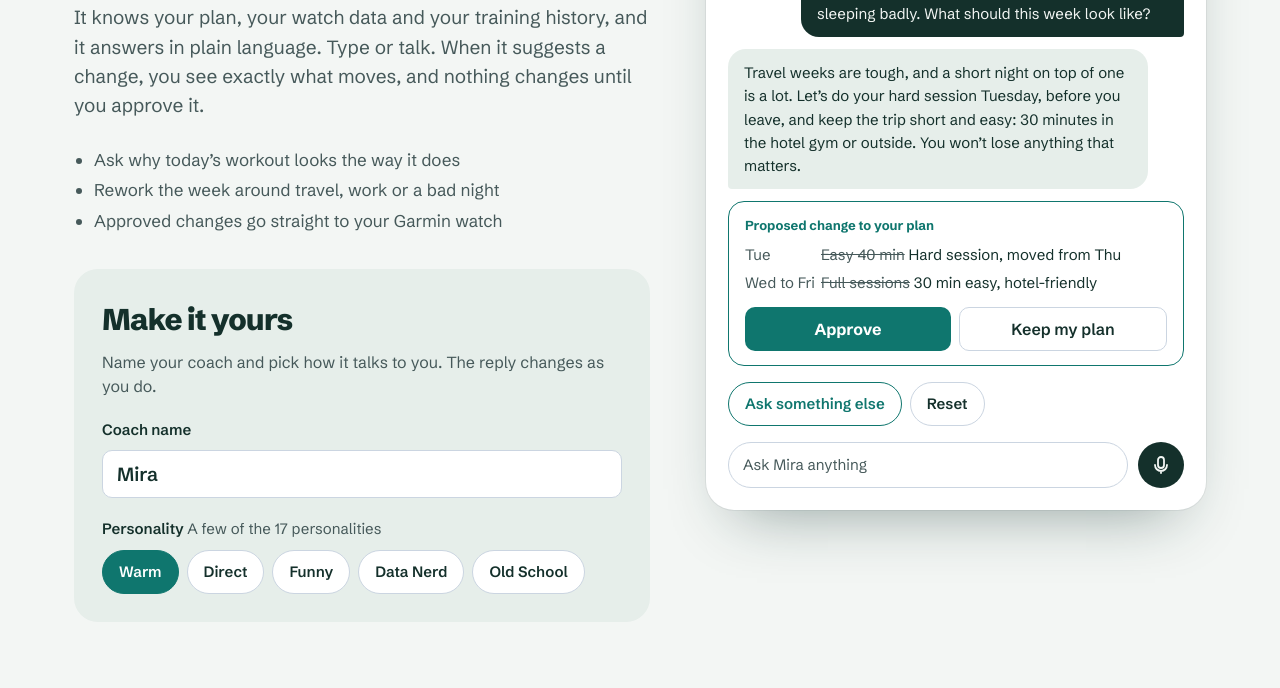
ported from reference/interaction_tests.cjs › coach: approve swaps buttons for confirmation
(page scrolled)
Click the button "Approve" at (848, 329), box [745,307,951,351]
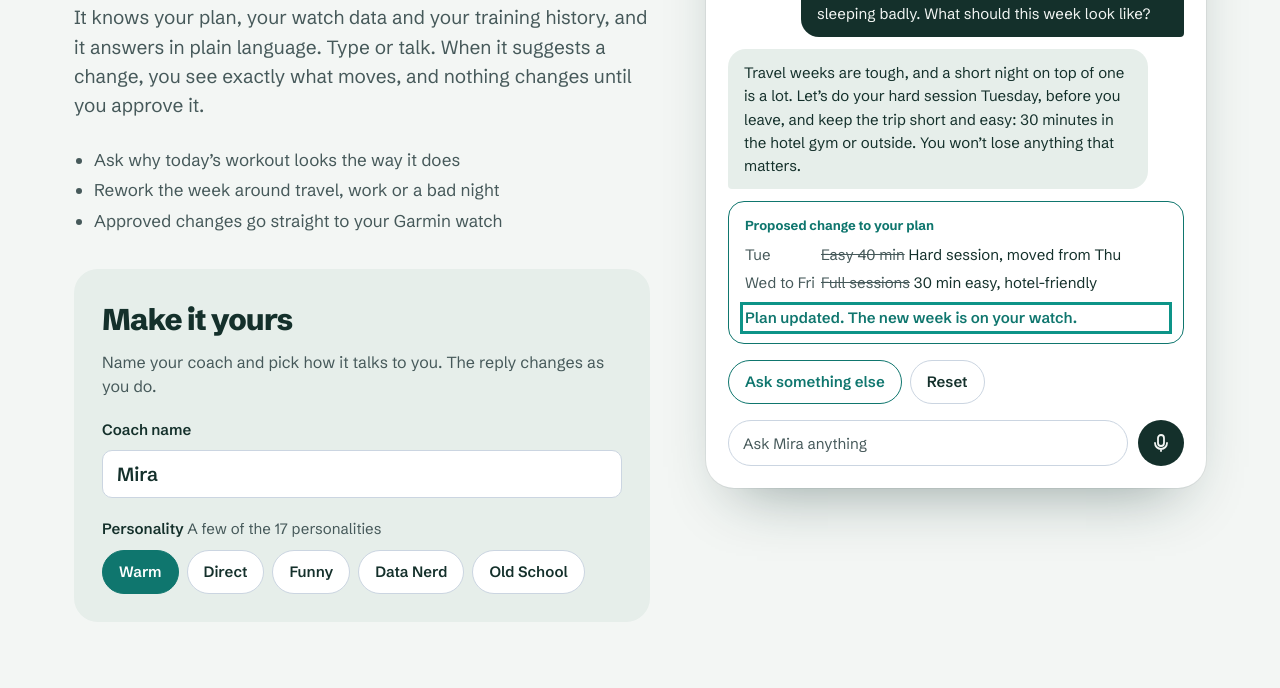
Check: the button "Keep my plan" is gone
Check: the message "Plan updated. The new week is on your watch." is shown, box [745,308,1077,327]
